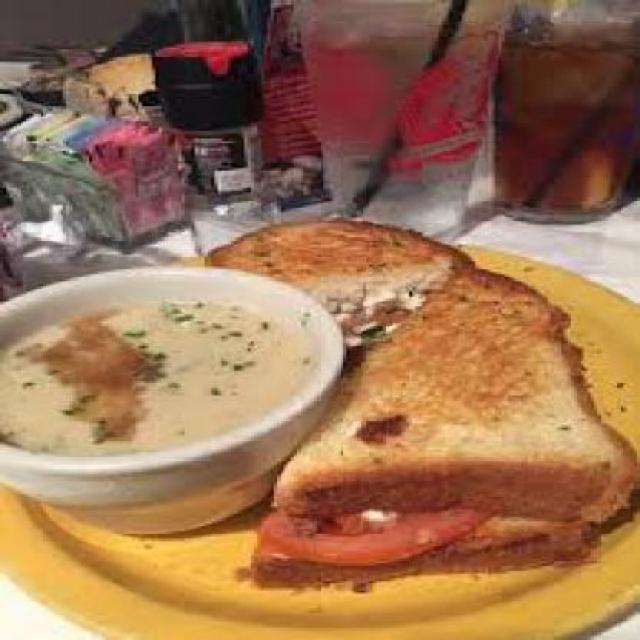club sandwich: (218, 200, 624, 586)
